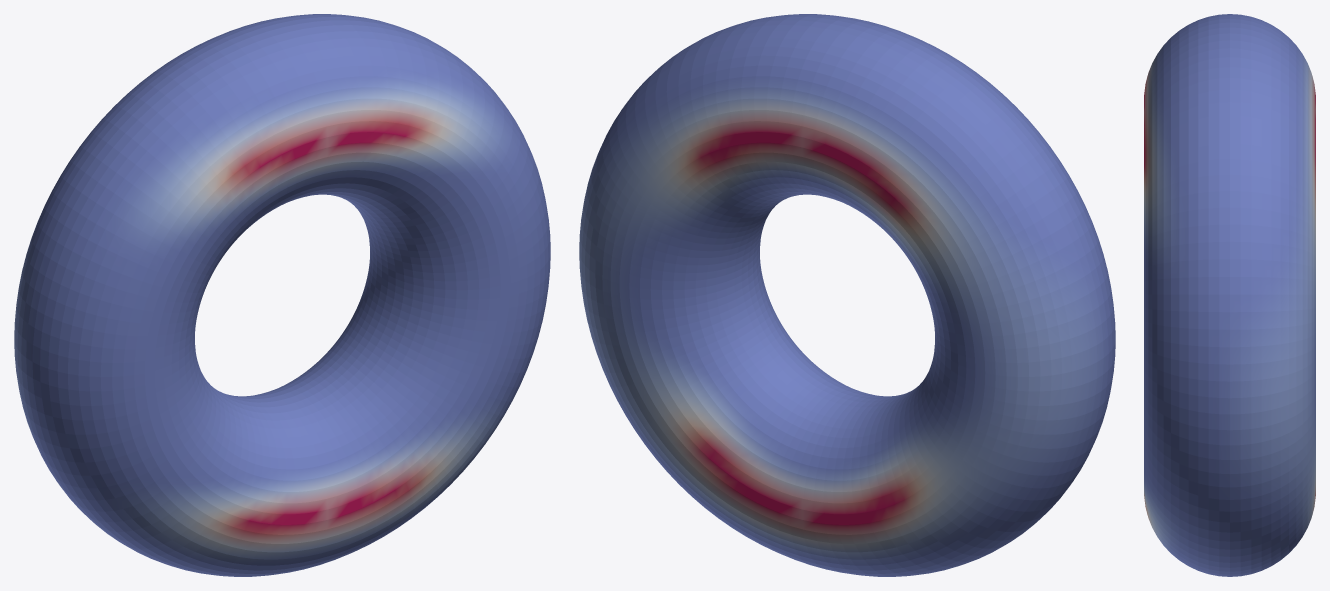
3 renders of one model, left to right at view 1: azimuth 30°, elevation 25°; view 2: azimuth 150°, elevation 25°; view 3: azimuth 270°, elevation 25°, orthographic. The views are drawn at different scales.
Parts seen in each view (by area): view 1: world; view 2: world; view 3: world.
Boxes of the visible parts, left/top/right/bottom form: world: left=14, top=14, right=550, bottom=576; world: left=579, top=14, right=1115, bottom=576; world: left=1144, top=14, right=1315, bottom=576.
Bounding box in the file's own units: 14.4 × 14.4 × 4.39.
